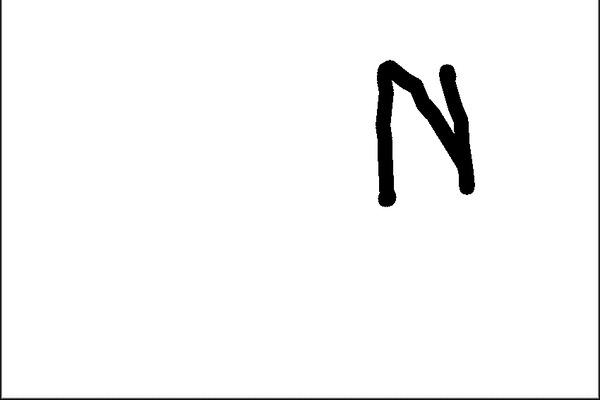N: (366, 53, 480, 210)
